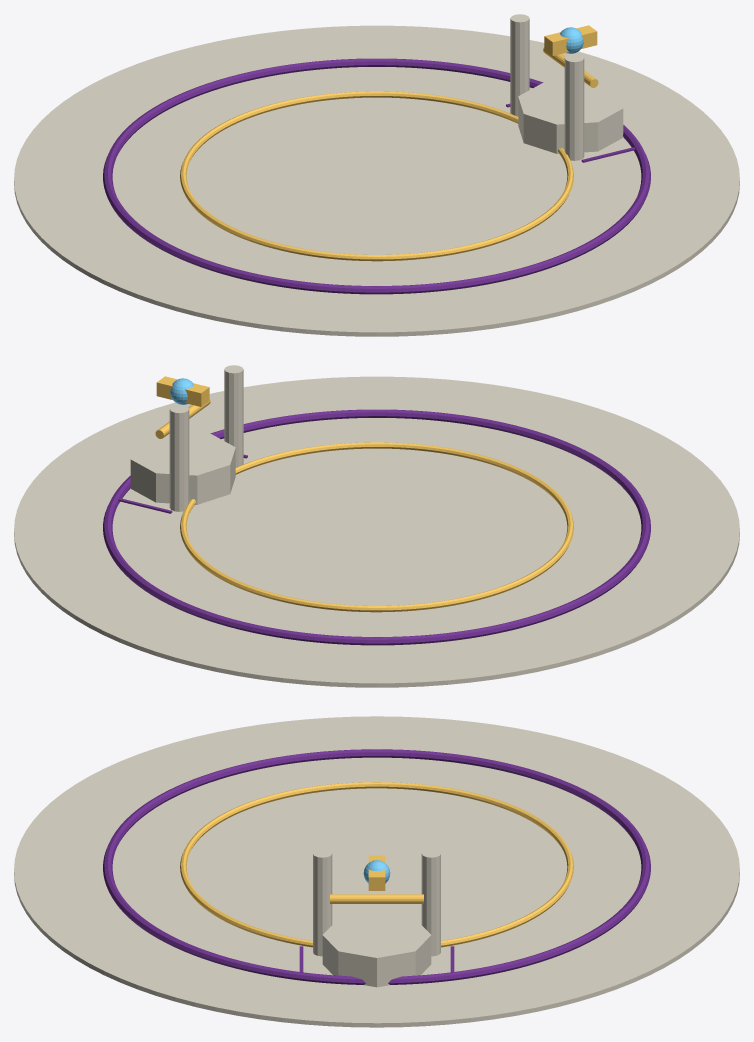
File: SM_stylized_heroic_Thunder_Hammer_temple_pedestal_w_LOD0.fbx
3 views of the same model, one above another, from view 1: azimuth 30°, elevation 25°; view 2: azimuth 150°, elevation 25°; view 3: azimuth 270°, elevation 25° (orthographic).
Visible parts, largest first — view 1: SM_LW_ArenaStone_Base, SM_LW_ShadowBoundary_Violet, SM_LW_SacredCircle_Gold, SM_ThunderHammerTemple_Pedestal_LOD0, SM_ThunderHammerTemple_Column_LOD0, SM_ThunderHammerTemple_Column_LOD0.001, SM_ThunderHammer_Head_LOD0; view 2: SM_LW_ArenaStone_Base, SM_LW_ShadowBoundary_Violet, SM_LW_SacredCircle_Gold, SM_ThunderHammerTemple_Pedestal_LOD0, SM_ThunderHammerTemple_Column_LOD0.001, SM_ThunderHammerTemple_Column_LOD0, SM_ThunderHammer_Head_LOD0; view 3: SM_LW_ArenaStone_Base, SM_LW_ShadowBoundary_Violet, SM_ThunderHammerTemple_Pedestal_LOD0, SM_LW_SacredCircle_Gold, SM_ThunderHammerTemple_Column_LOD0, SM_ThunderHammerTemple_Column_LOD0.001, SM_ThunderHammer_Handle_LOD0.
Boxes of the visible parts, left/top/right/bottom form: SM_LW_ArenaStone_Base: left=14, top=25, right=739, bottom=336; SM_LW_ShadowBoundary_Violet: left=103, top=58, right=650, bottom=294; SM_LW_SacredCircle_Gold: left=180, top=91, right=573, bottom=261; SM_ThunderHammerTemple_Pedestal_LOD0: left=518, top=81, right=623, bottom=153; SM_ThunderHammerTemple_Column_LOD0: left=564, top=54, right=584, bottom=160; SM_ThunderHammerTemple_Column_LOD0.001: left=510, top=14, right=529, bottom=116; SM_ThunderHammer_Head_LOD0: left=544, top=25, right=597, bottom=55; SM_LW_ArenaStone_Base: left=14, top=376, right=739, bottom=687; SM_LW_ShadowBoundary_Violet: left=103, top=409, right=650, bottom=645; SM_LW_SacredCircle_Gold: left=180, top=442, right=573, bottom=612; SM_ThunderHammerTemple_Pedestal_LOD0: left=130, top=432, right=235, bottom=504; SM_ThunderHammerTemple_Column_LOD0.001: left=169, top=405, right=189, bottom=511; SM_ThunderHammerTemple_Column_LOD0: left=224, top=365, right=243, bottom=467; SM_ThunderHammer_Head_LOD0: left=156, top=376, right=209, bottom=406; SM_LW_ArenaStone_Base: left=14, top=716, right=739, bottom=1027; SM_LW_ShadowBoundary_Violet: left=103, top=749, right=650, bottom=984; SM_ThunderHammerTemple_Pedestal_LOD0: left=322, top=912, right=431, bottom=987; SM_LW_SacredCircle_Gold: left=180, top=782, right=573, bottom=947; SM_ThunderHammerTemple_Column_LOD0: left=313, top=849, right=332, bottom=956; SM_ThunderHammerTemple_Column_LOD0.001: left=421, top=849, right=440, bottom=956; SM_ThunderHammer_Handle_LOD0: left=330, top=894, right=423, bottom=903.
Size of the model in its own units: 1200 by 196 by 1200.
